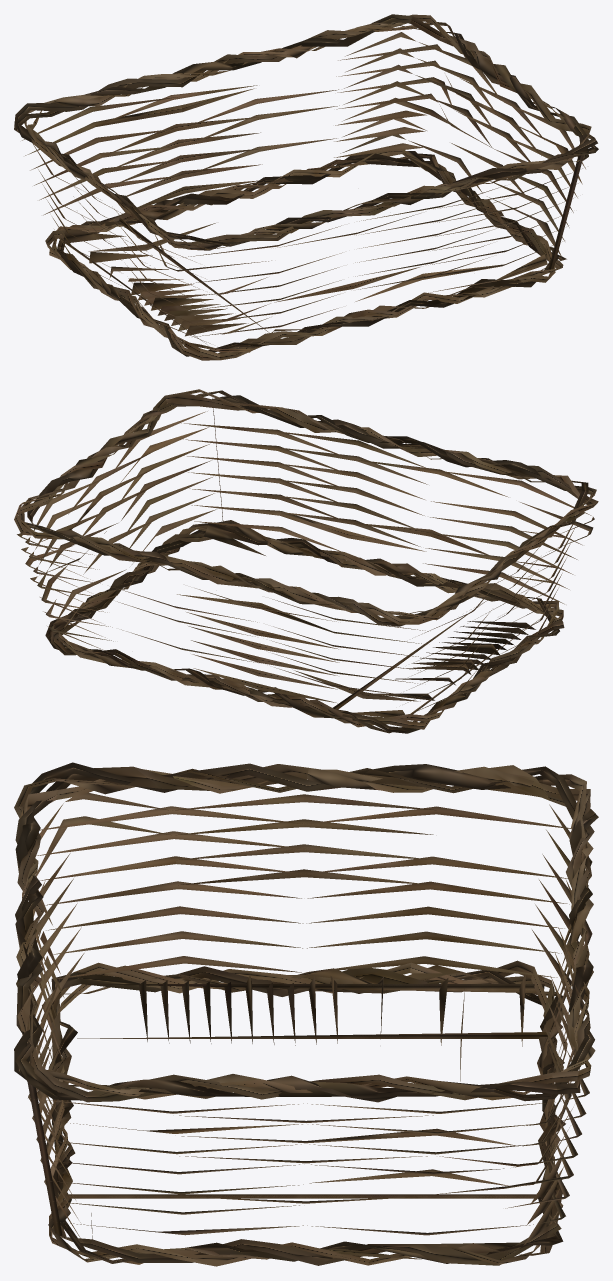
The model's file is ph-wicker-basket-01.lod1.glb.
3 renders of one model, top to bottom at view 1: azimuth 30°, elevation 25°; view 2: azimuth 150°, elevation 25°; view 3: azimuth 270°, elevation 25°, orthographic. The views are drawn at different scales.
Parts seen in each view (by area): view 1: wicker_basket_01; view 2: wicker_basket_01; view 3: wicker_basket_01.
Part boxes in pixels (x1,y1,x2,y2): wicker_basket_01: [14, 14, 598, 360]; wicker_basket_01: [14, 389, 598, 733]; wicker_basket_01: [14, 762, 598, 1266].
Bounding box in the file's own units: 0.383 × 0.1172 × 0.2929.
1 material, 1 textured.
